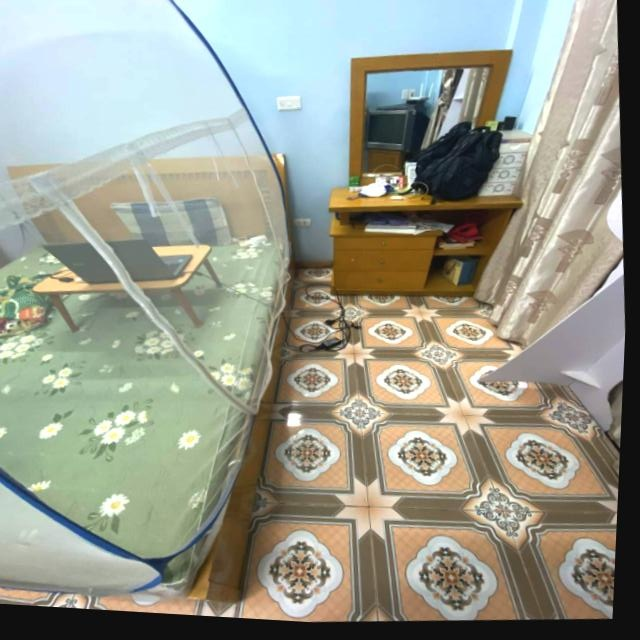outlet: (294, 217, 313, 227)
